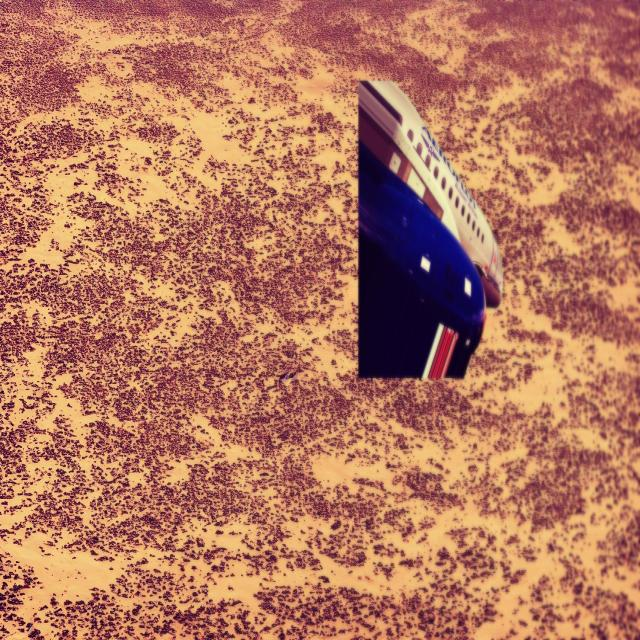airplane: (358, 76, 503, 381)
